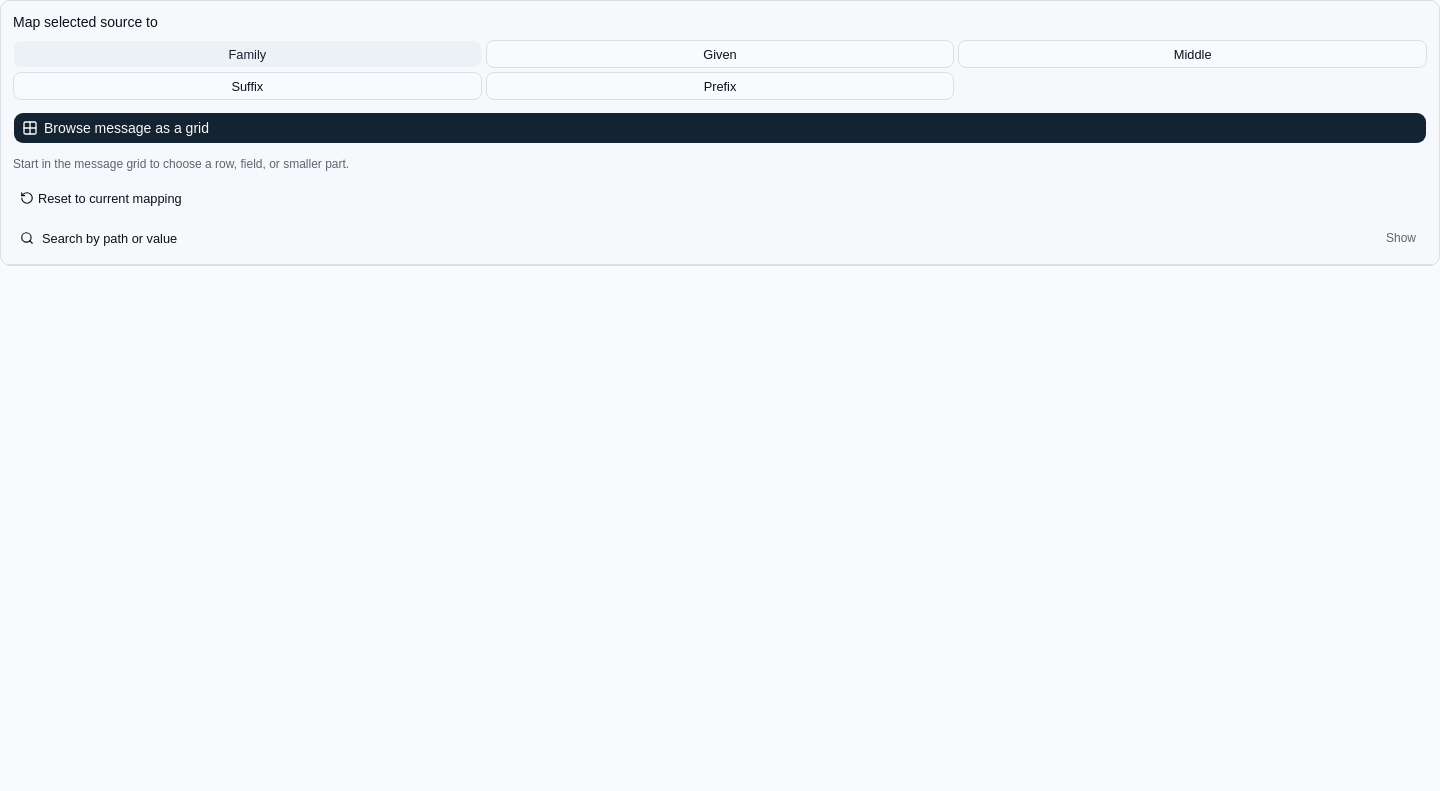
Test: resets search when the review field is replaced
Earlier steps of the test are not shown.
Check: the field labelled "find a source" is not shown
Click the button "Search by path or value Show": (110, 238) [13,224,1427,252]
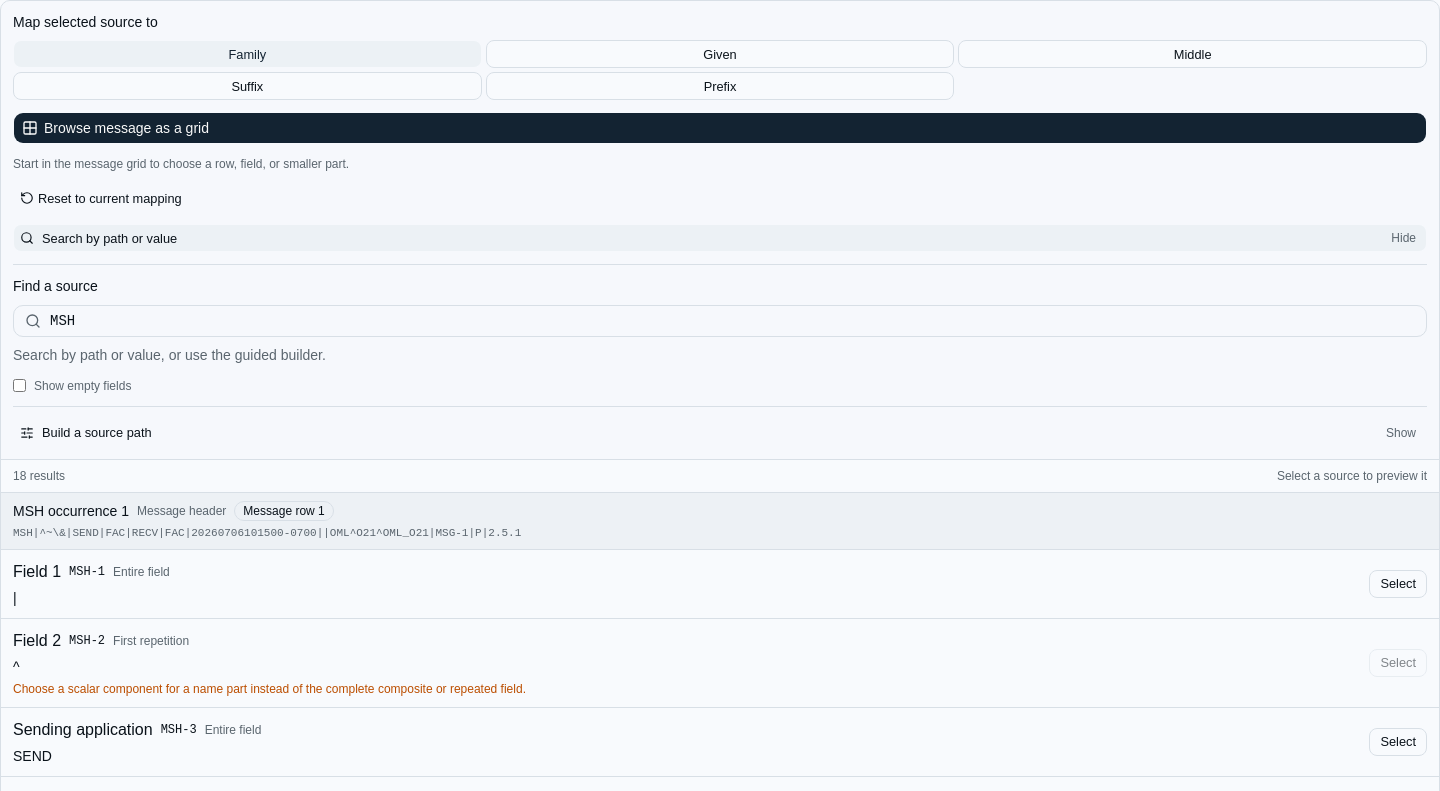
Check: the field labelled "Find a source" holds "MSH", box [13,304,1427,336]
